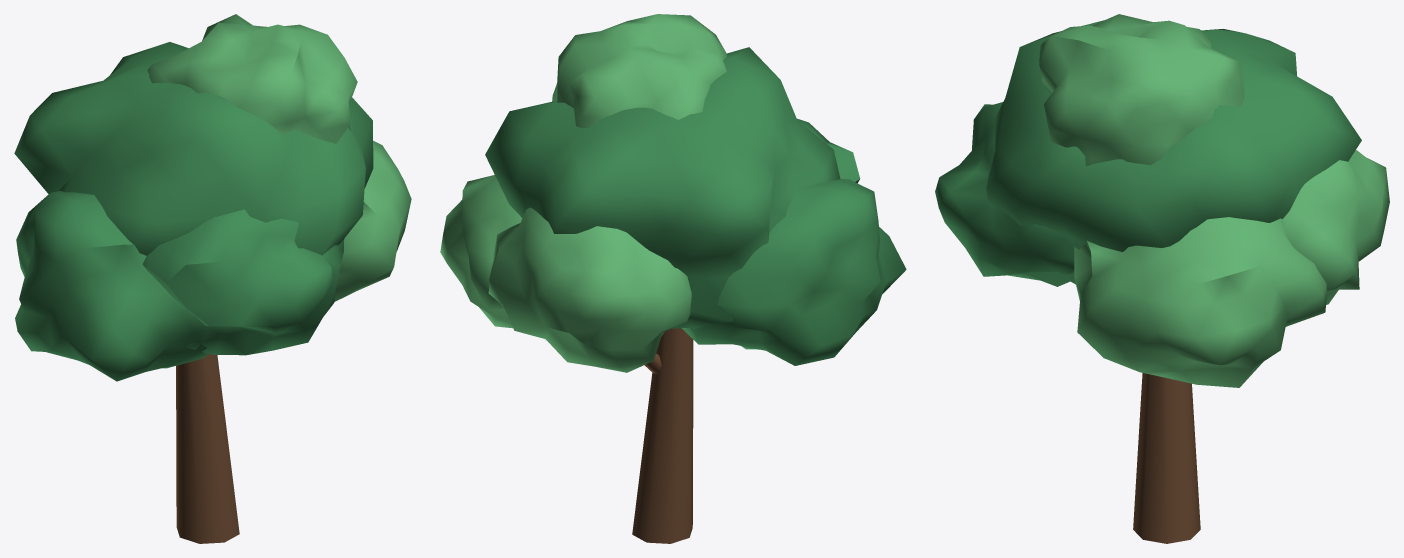
Rendered from tree_1.glb.
The picture shows the model from 3 angles, left to right: view 1: azimuth 30°, elevation 25°; view 2: azimuth 150°, elevation 25°; view 3: azimuth 270°, elevation 25°; orthographic projection. The views are drawn at different scales.
Parts seen in each view (by area): view 1: Tree; view 2: Tree; view 3: Tree.
Part boxes in pixels (bbox=[...]): Tree: bbox=[14, 14, 411, 543]; Tree: bbox=[440, 14, 906, 543]; Tree: bbox=[935, 14, 1389, 543].
Size of the model in its own units: 5.03 by 5.77 by 4.57.
